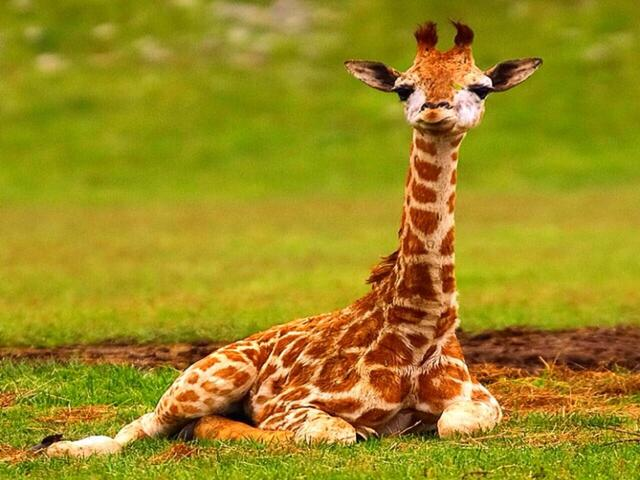giraffe: (19, 7, 571, 463)
